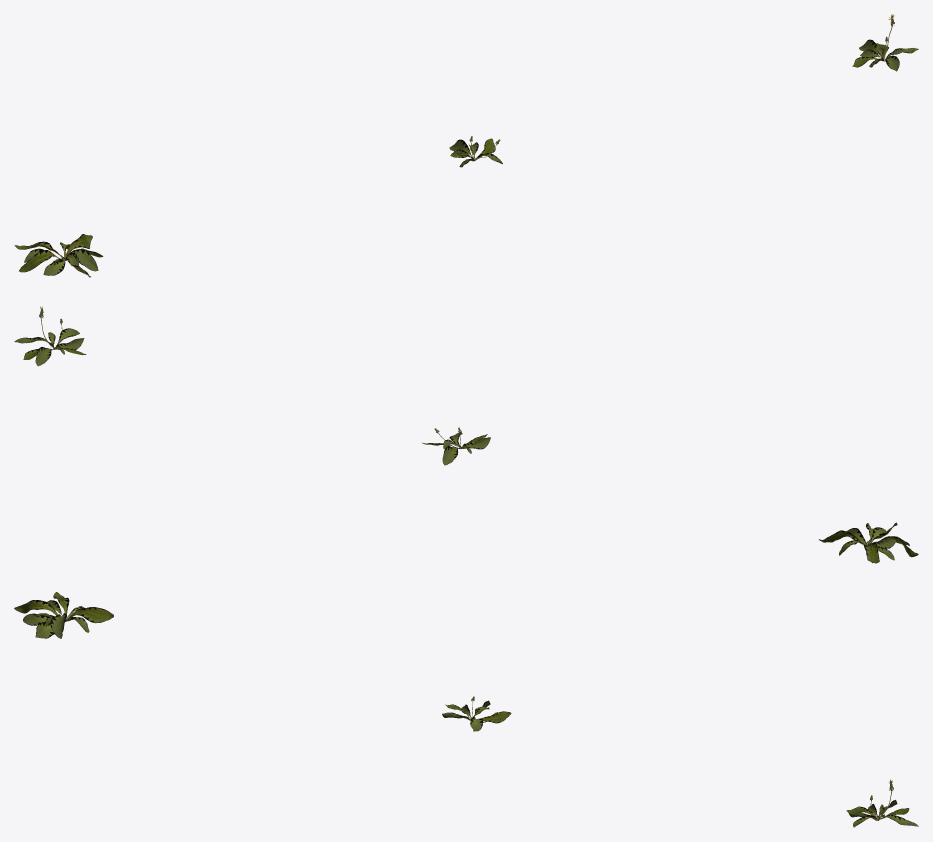
Rendered from dandelion.glb.
3 renders of one model, top to bottom at view 1: azimuth 30°, elevation 25°; view 2: azimuth 150°, elevation 25°; view 3: azimuth 330°, elevation 25°, orthographic.
Parts seen in each view (by area): view 1: dandelion_01_e_LOD0, dandelion_01_c_LOD0, dandelion_01_d_LOD0; view 2: dandelion_01_e_LOD0, dandelion_01_c_LOD0, dandelion_01_d_LOD0; view 3: dandelion_01_e_LOD0, dandelion_01_c_LOD0, dandelion_01_d_LOD0.
Boxes of the visible parts, left/top/right/bottom form: dandelion_01_e_LOD0: left=14, top=234, right=103, bottom=277; dandelion_01_c_LOD0: left=852, top=14, right=918, bottom=71; dandelion_01_d_LOD0: left=449, top=136, right=502, bottom=167; dandelion_01_e_LOD0: left=819, top=522, right=918, bottom=563; dandelion_01_c_LOD0: left=14, top=306, right=86, bottom=366; dandelion_01_d_LOD0: left=422, top=427, right=490, bottom=465; dandelion_01_e_LOD0: left=14, top=592, right=113, bottom=638; dandelion_01_c_LOD0: left=846, top=779, right=918, bottom=827; dandelion_01_d_LOD0: left=442, top=696, right=511, bottom=731.
Size of the model in its own units: 2.21 by 0.1072 by 0.2053.
Materials: 1 (1 with a texture image).
